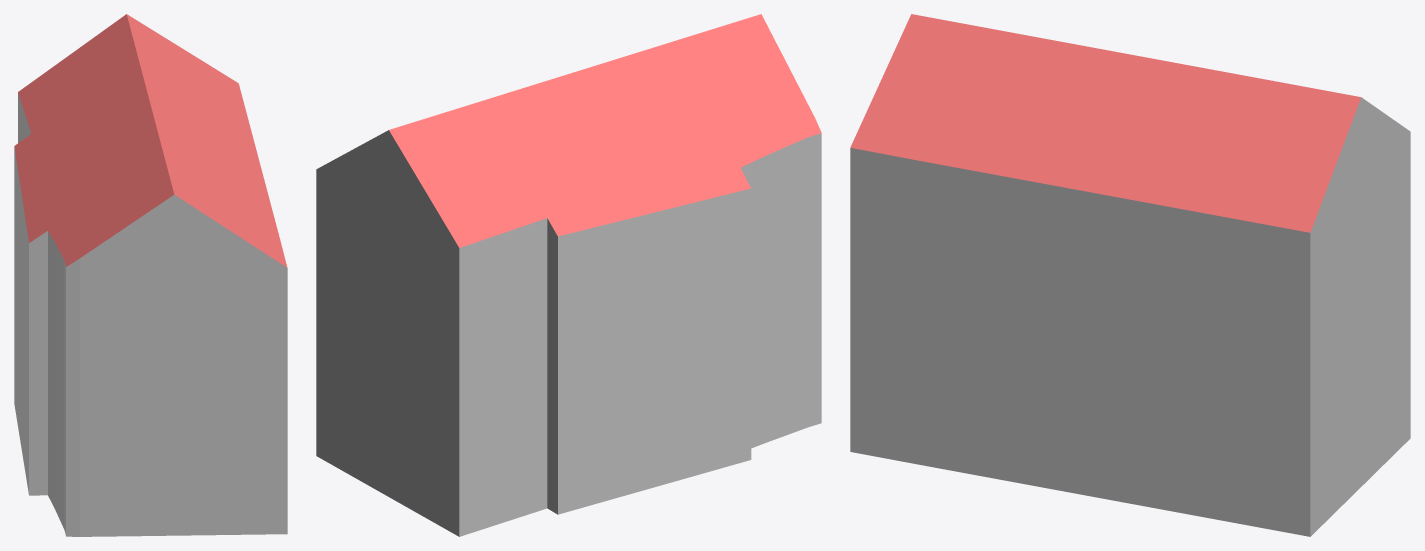
File: DEBY_LOD2_4907183.gltf
3 views of the same model, side by side, from view 1: azimuth 30°, elevation 25°; view 2: azimuth 150°, elevation 25°; view 3: azimuth 270°, elevation 25° (orthographic). The views are drawn at different scales.
Visible parts, largest first — view 1: Z_UP; view 2: Z_UP; view 3: Z_UP.
Part boxes in pixels (<box>): Z_UP: <box>14,14,287,536</box>; Z_UP: <box>316,14,821,536</box>; Z_UP: <box>850,14,1410,536</box>.
Size of the model in its own units: 22.31 by 22.64 by 29.51.
